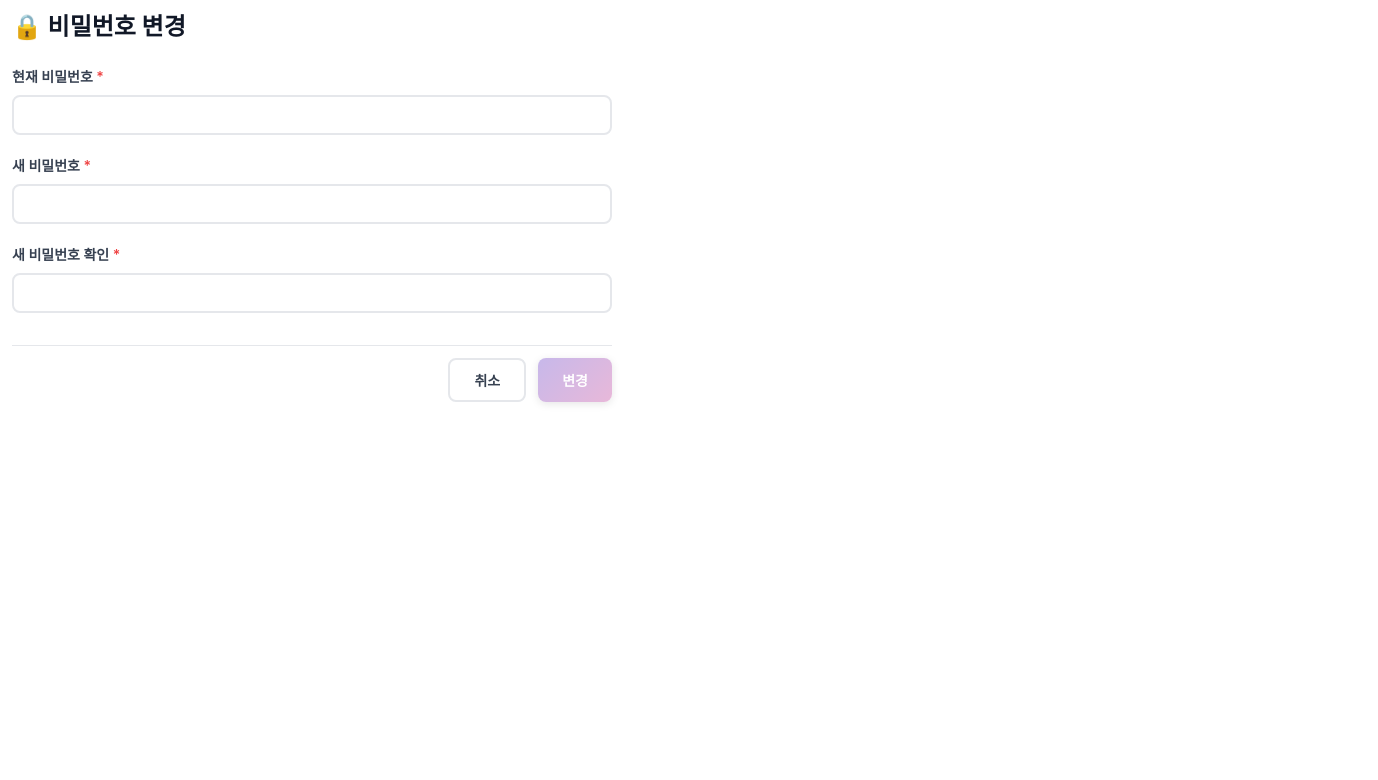
Test case: PasswordChange Component › 비밀번호 변경 › 에러 처리 - 비밀번호 불일치
Type "OldPass123!" into the password field below "현재 비밀번호" at (312, 115), box [12,95,612,135]
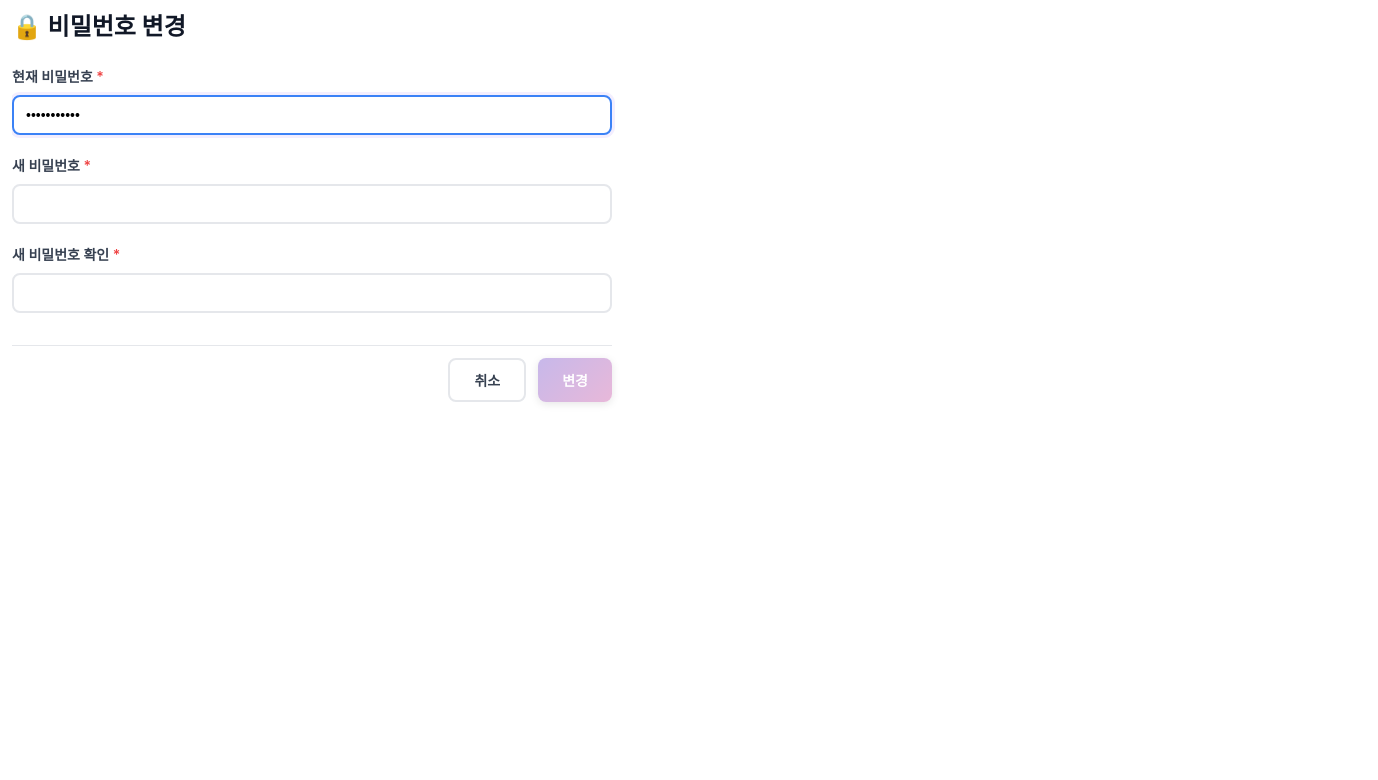
Type "NewPass123!" into the 2nd password field at (312, 204), box [12,184,612,224]
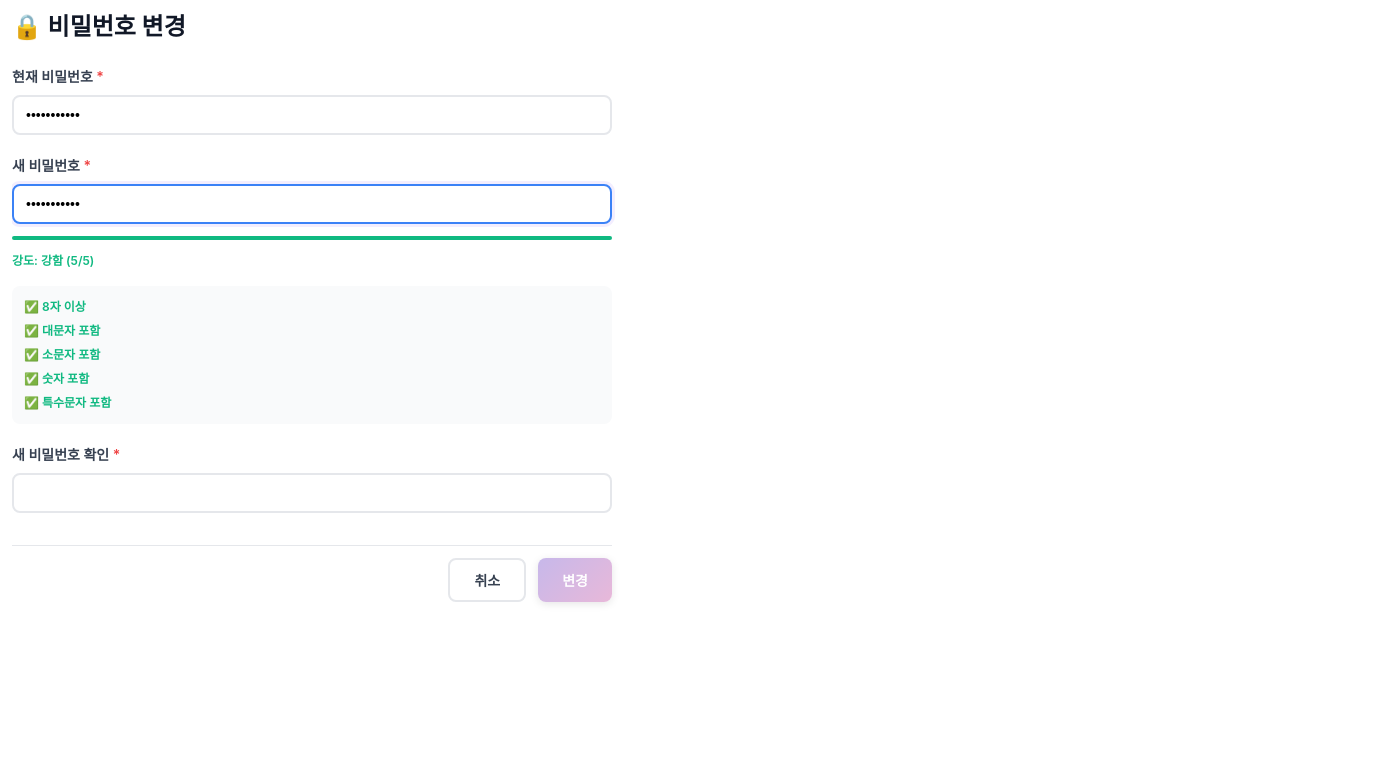
Type "Different!" into the password field below "새 비밀번호 확인" at (312, 493), box [12,473,612,513]
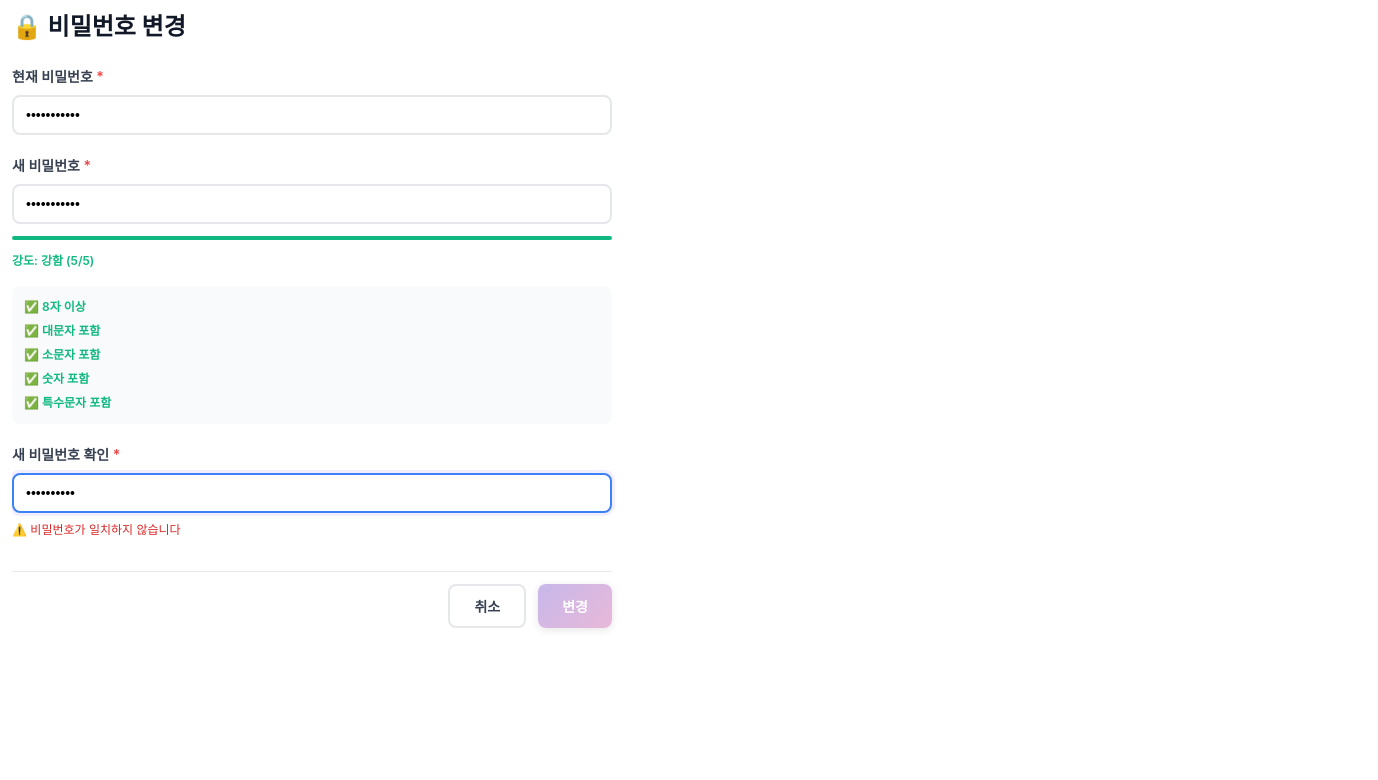
Click the button "변경" at (575, 606), box [538,584,612,628]
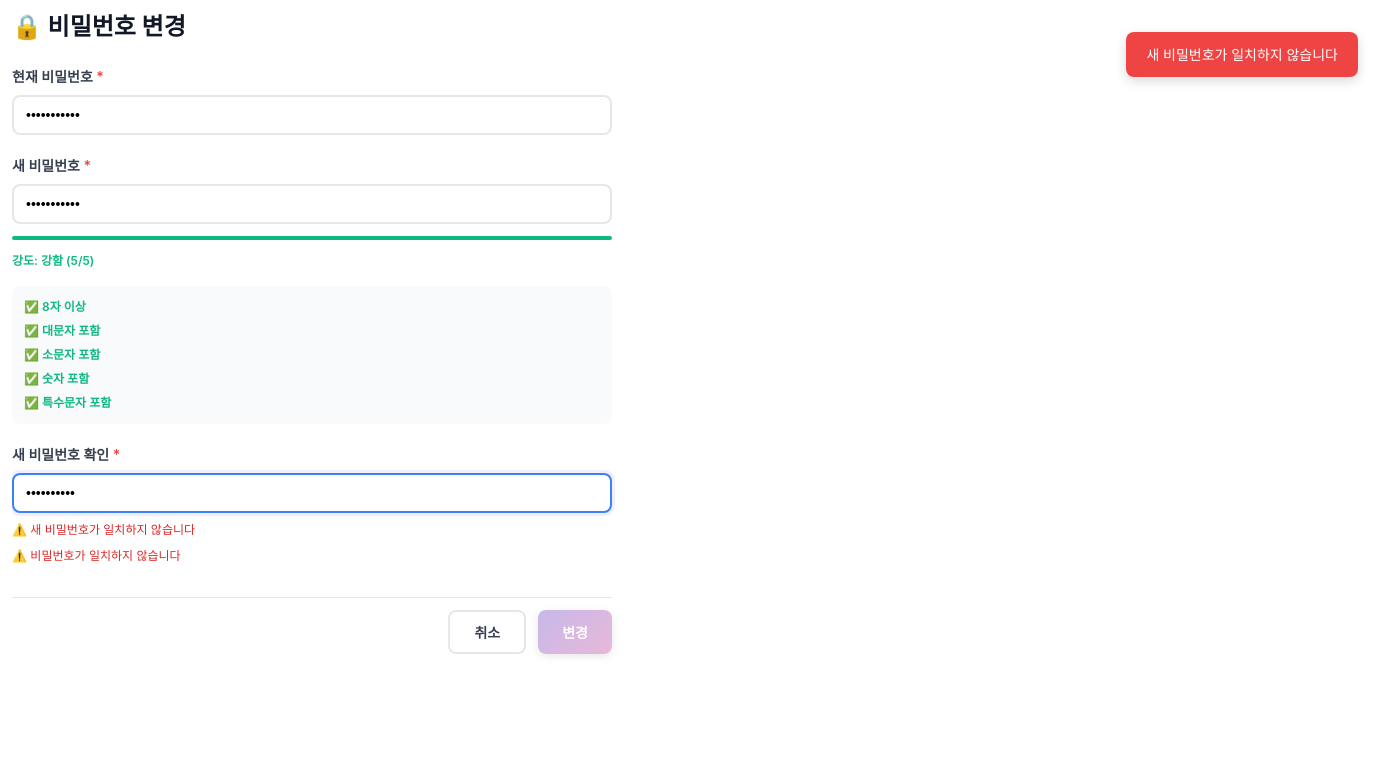
Expected: the text "새 비밀번호가 일치하지 않습니다" is shown, [1126,32,1358,77]
